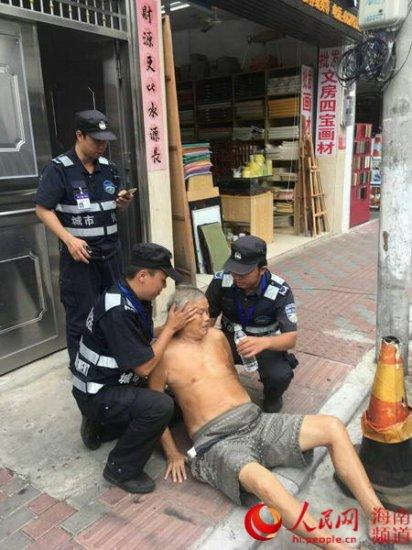bending: (151, 286, 396, 550), (54, 237, 186, 492), (207, 226, 303, 422)
up: (25, 108, 139, 364)
